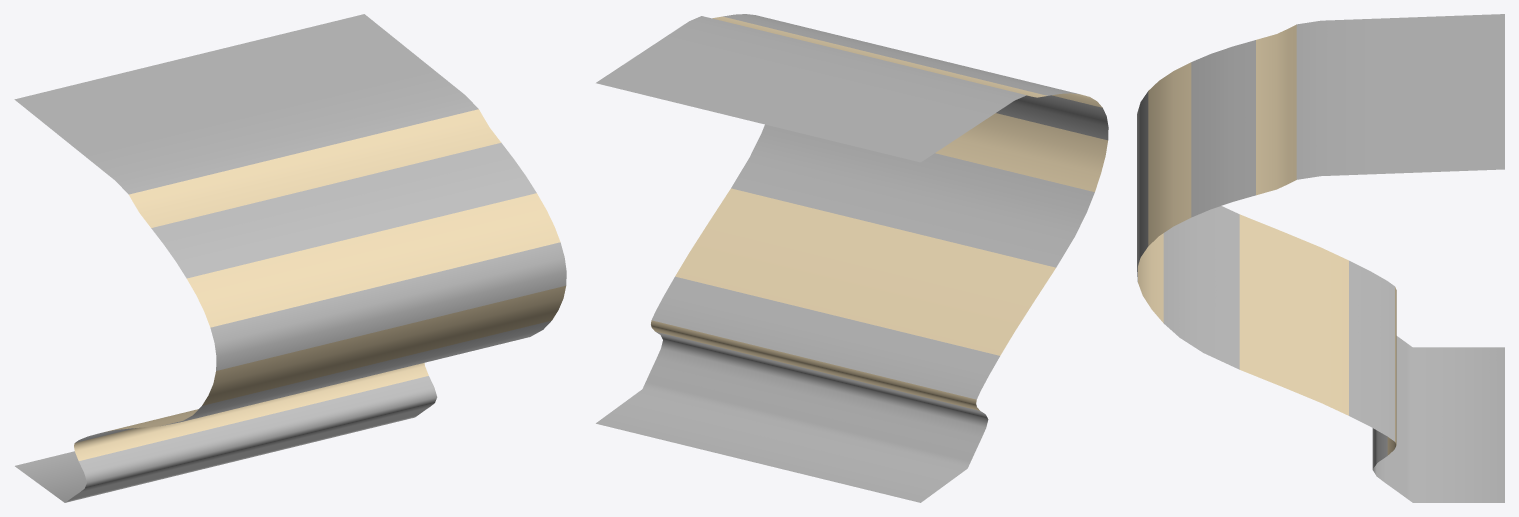
Rendered from pf_rail_a.glb.
3 renders of one model, left to right at view 1: azimuth 30°, elevation 25°; view 2: azimuth 150°, elevation 25°; view 3: azimuth 270°, elevation 25°, orthographic. The views are drawn at different scales.
Parts seen in each view (by area): view 1: pf_rail_a; view 2: pf_rail_a; view 3: pf_rail_a.
Boxes of the visible parts, <box> form: pf_rail_a: <box>14,14,566,502</box>; pf_rail_a: <box>596,14,1108,502</box>; pf_rail_a: <box>1137,14,1504,502</box>.
Size of the model in its own units: 1 by 1 by 1.
